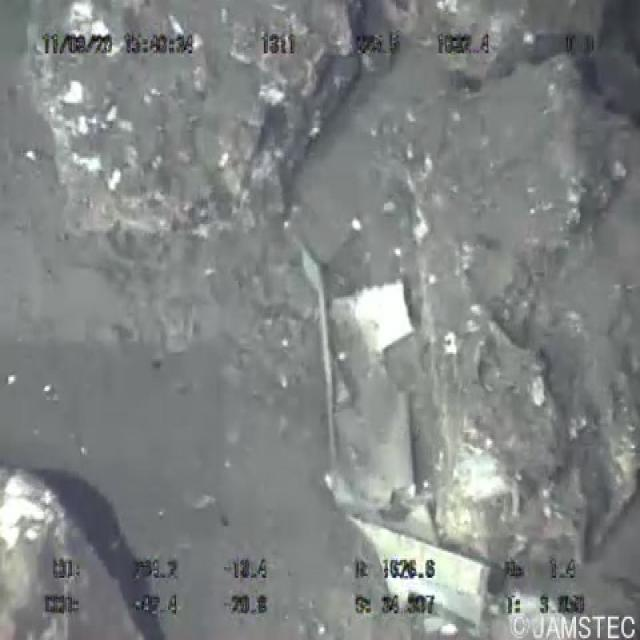plastic: (292, 235, 500, 631)
